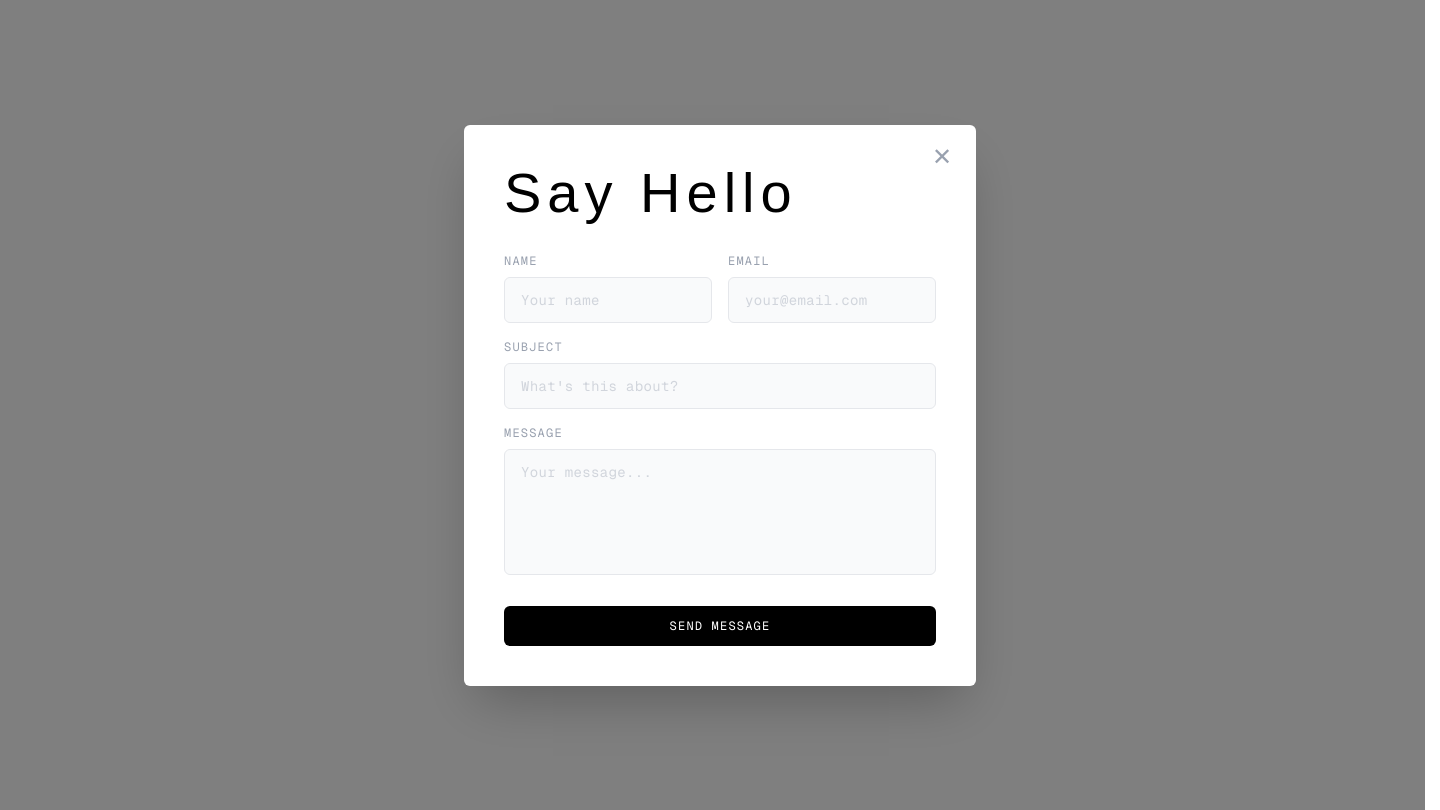
Test: ContactFormModal › shows success message after form is submitted
Type "Test User" into the field with placeholder "Your name" at (608, 300), box left=504, top=276, right=712, bottom=322
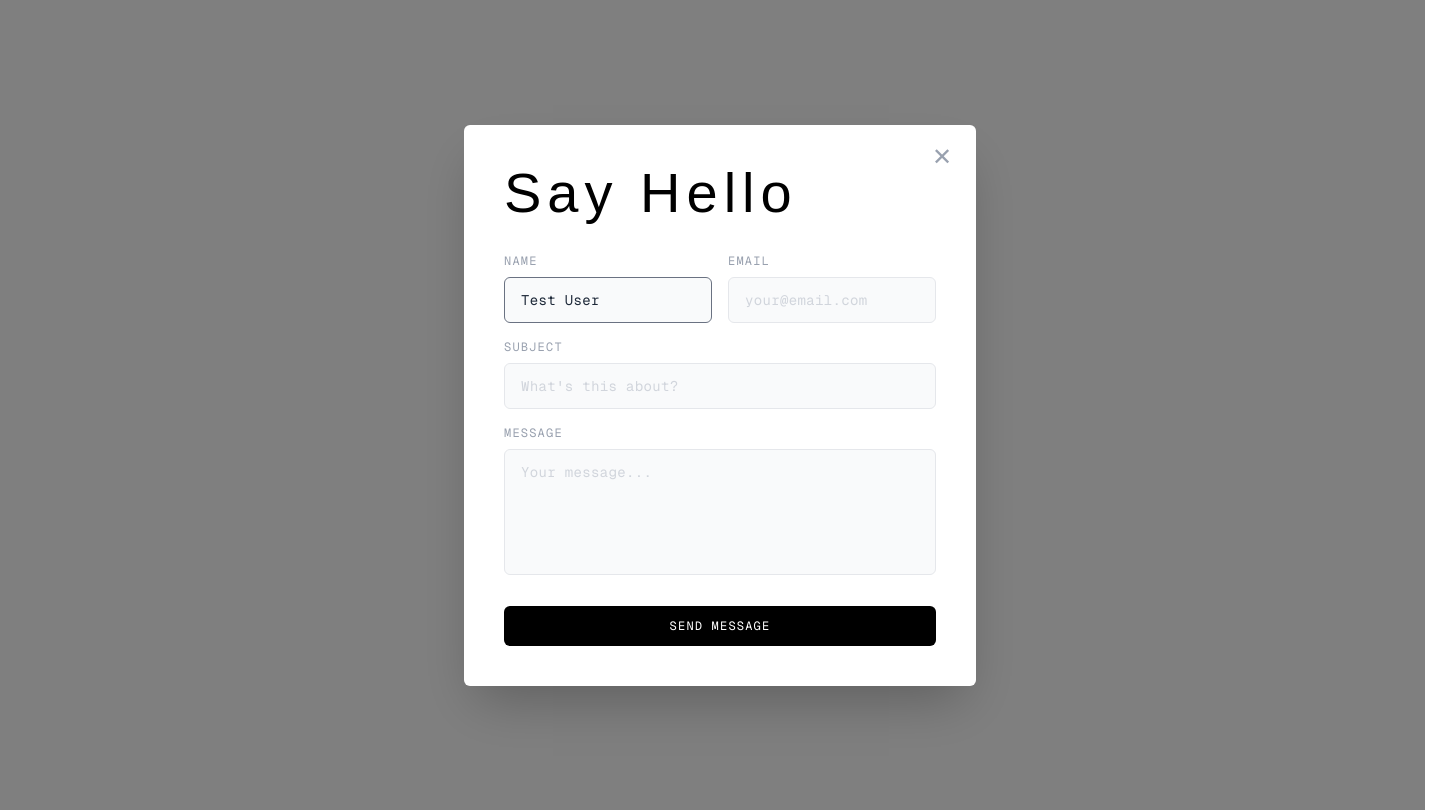
Type "test@example.com" into the field with placeholder "your@email.com" at (832, 300), box left=728, top=276, right=936, bottom=322
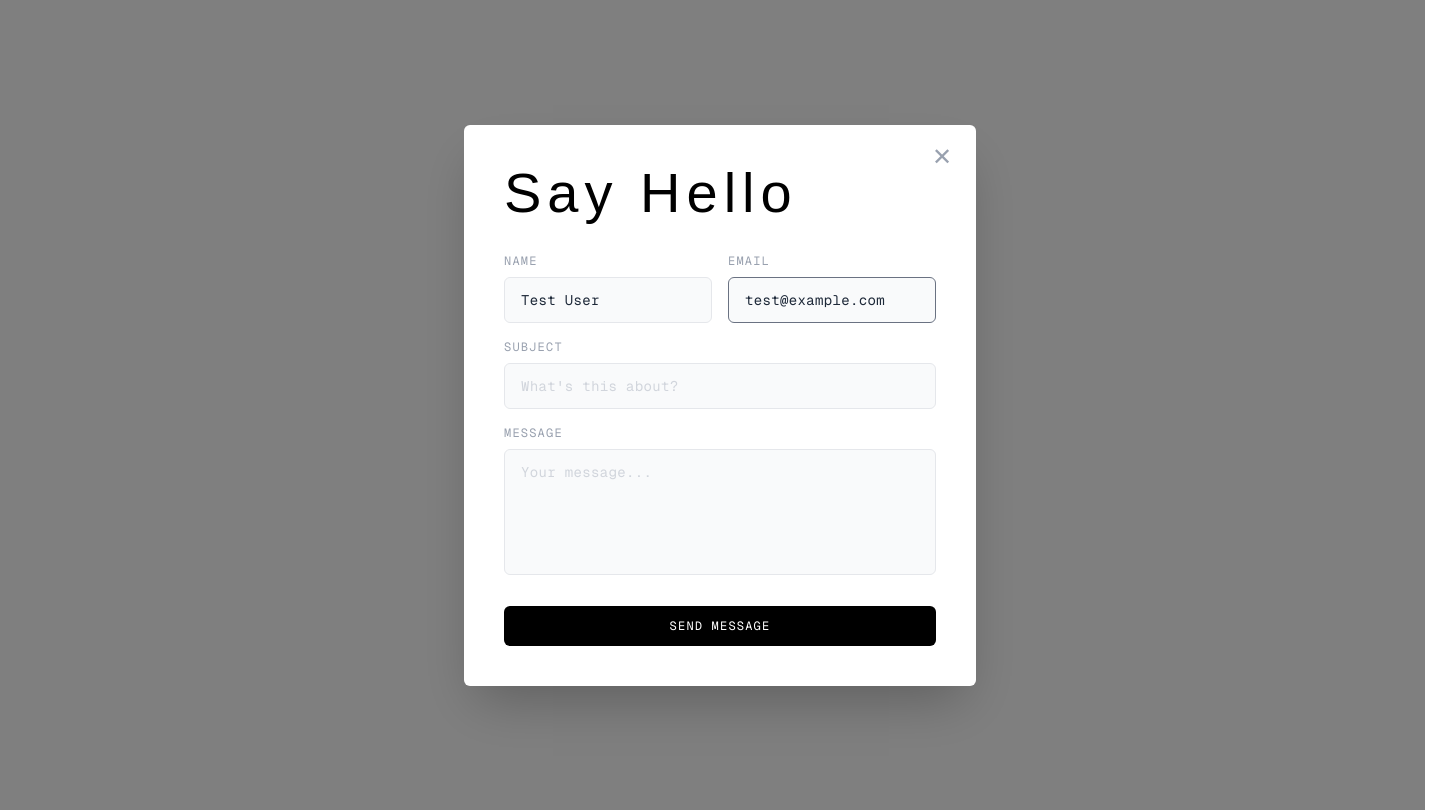
Type "Hello" into the field with placeholder "What's this about?" at (720, 386), box left=504, top=362, right=936, bottom=408
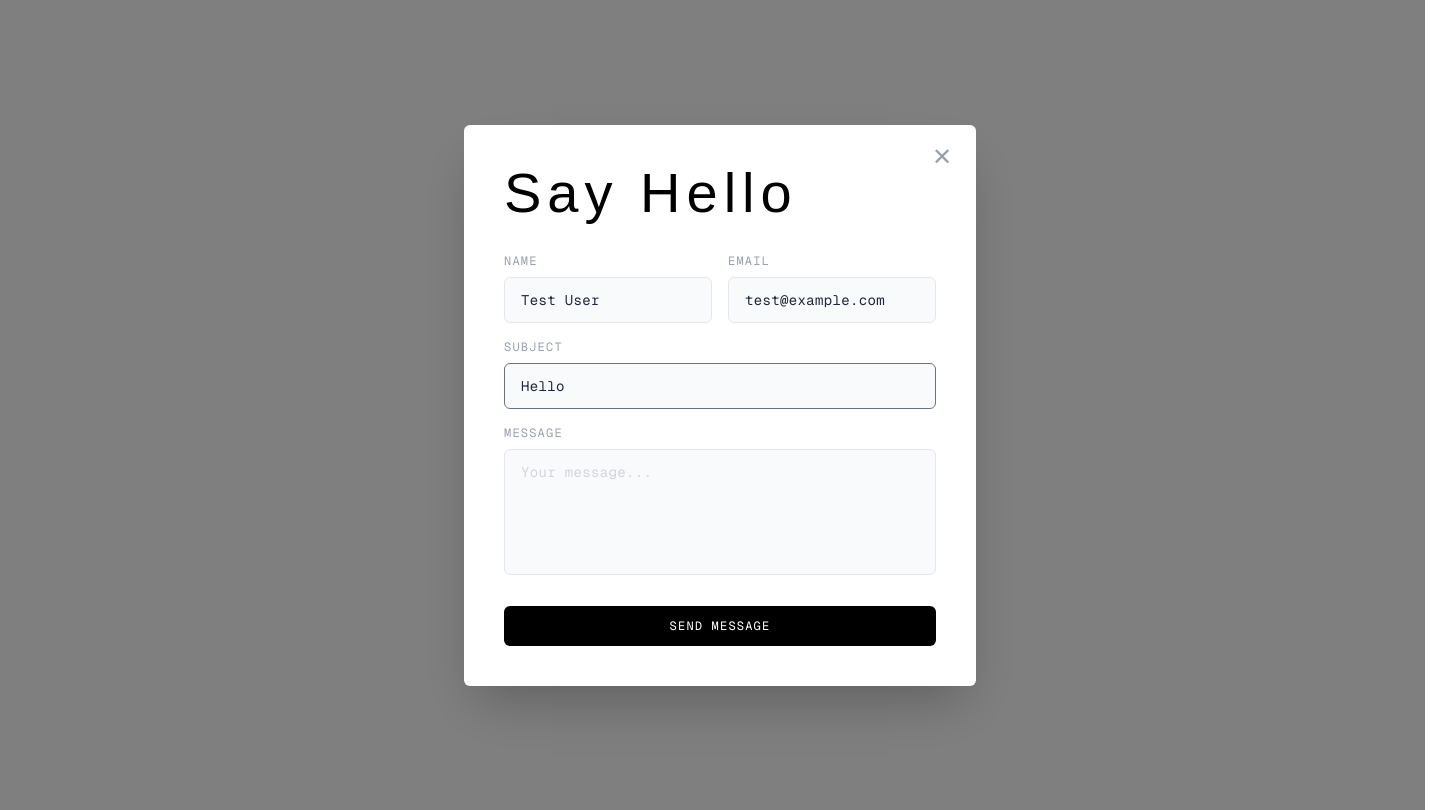
Type "Test message" into the text box with placeholder "Your message..." at (720, 512), box left=504, top=448, right=936, bottom=574
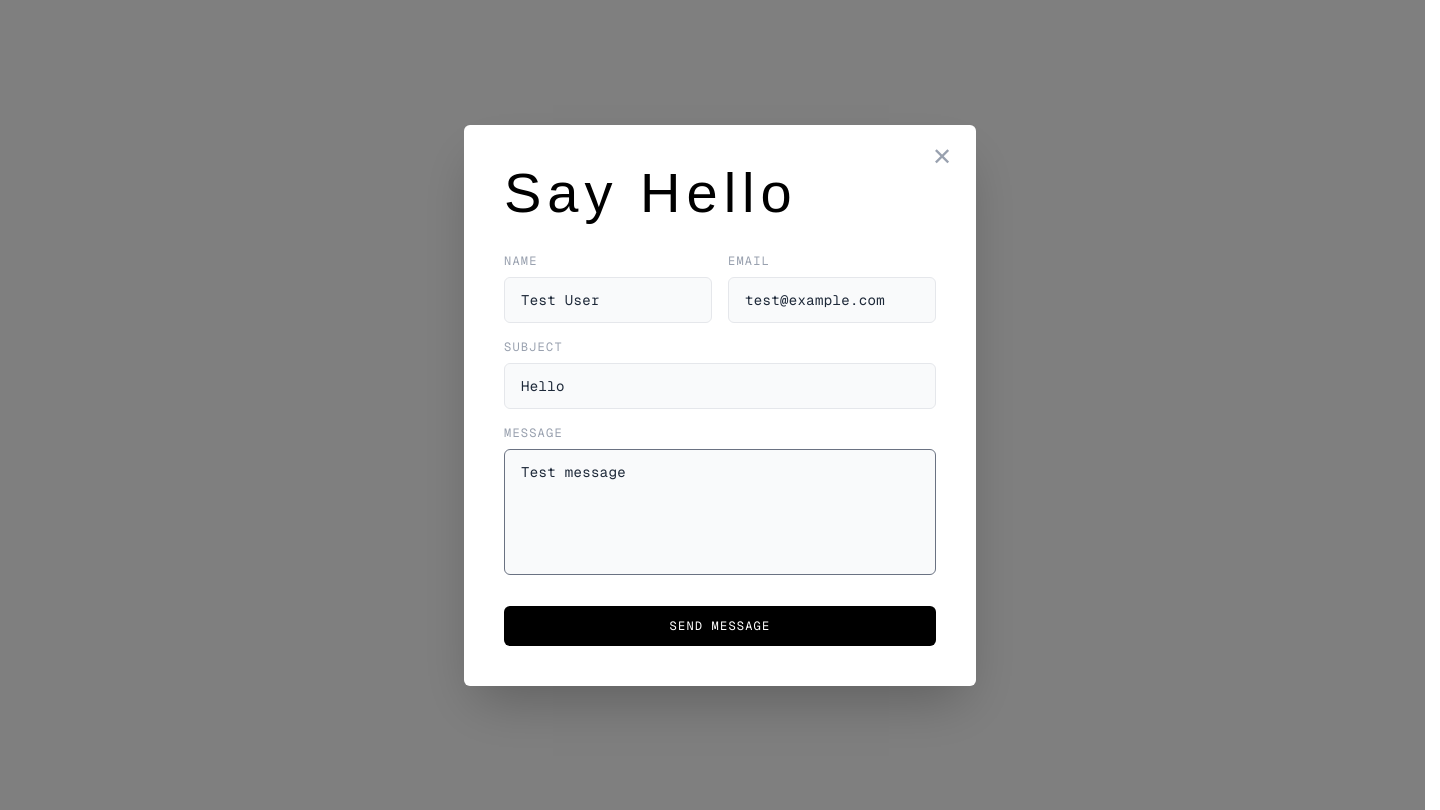
Click the button "Send Message" at (720, 626), box left=504, top=606, right=936, bottom=646
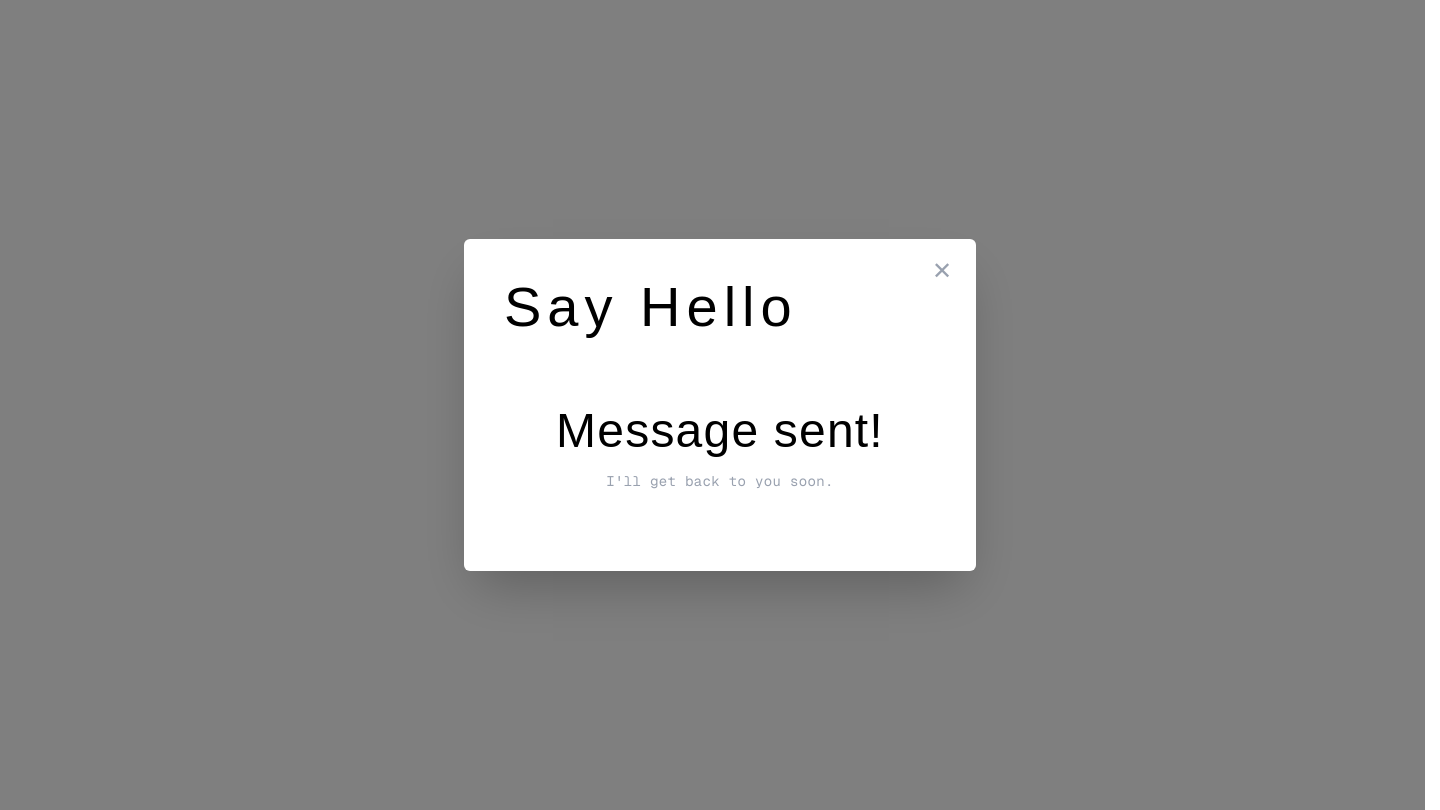
Expected: the text "Message sent!" is shown, left=556, top=404, right=884, bottom=457
